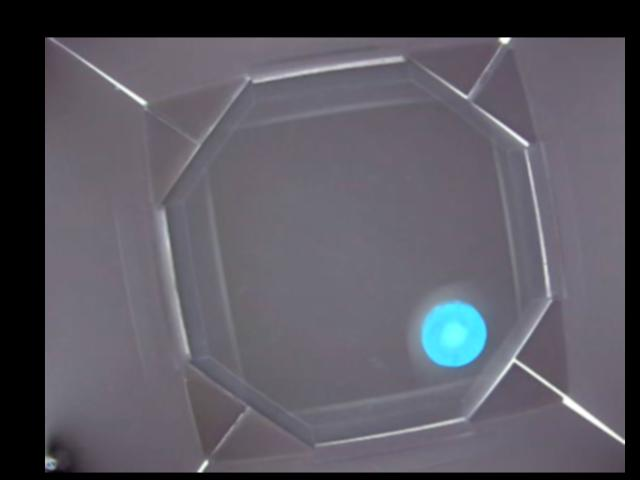Carrot: (423, 302, 487, 363)
